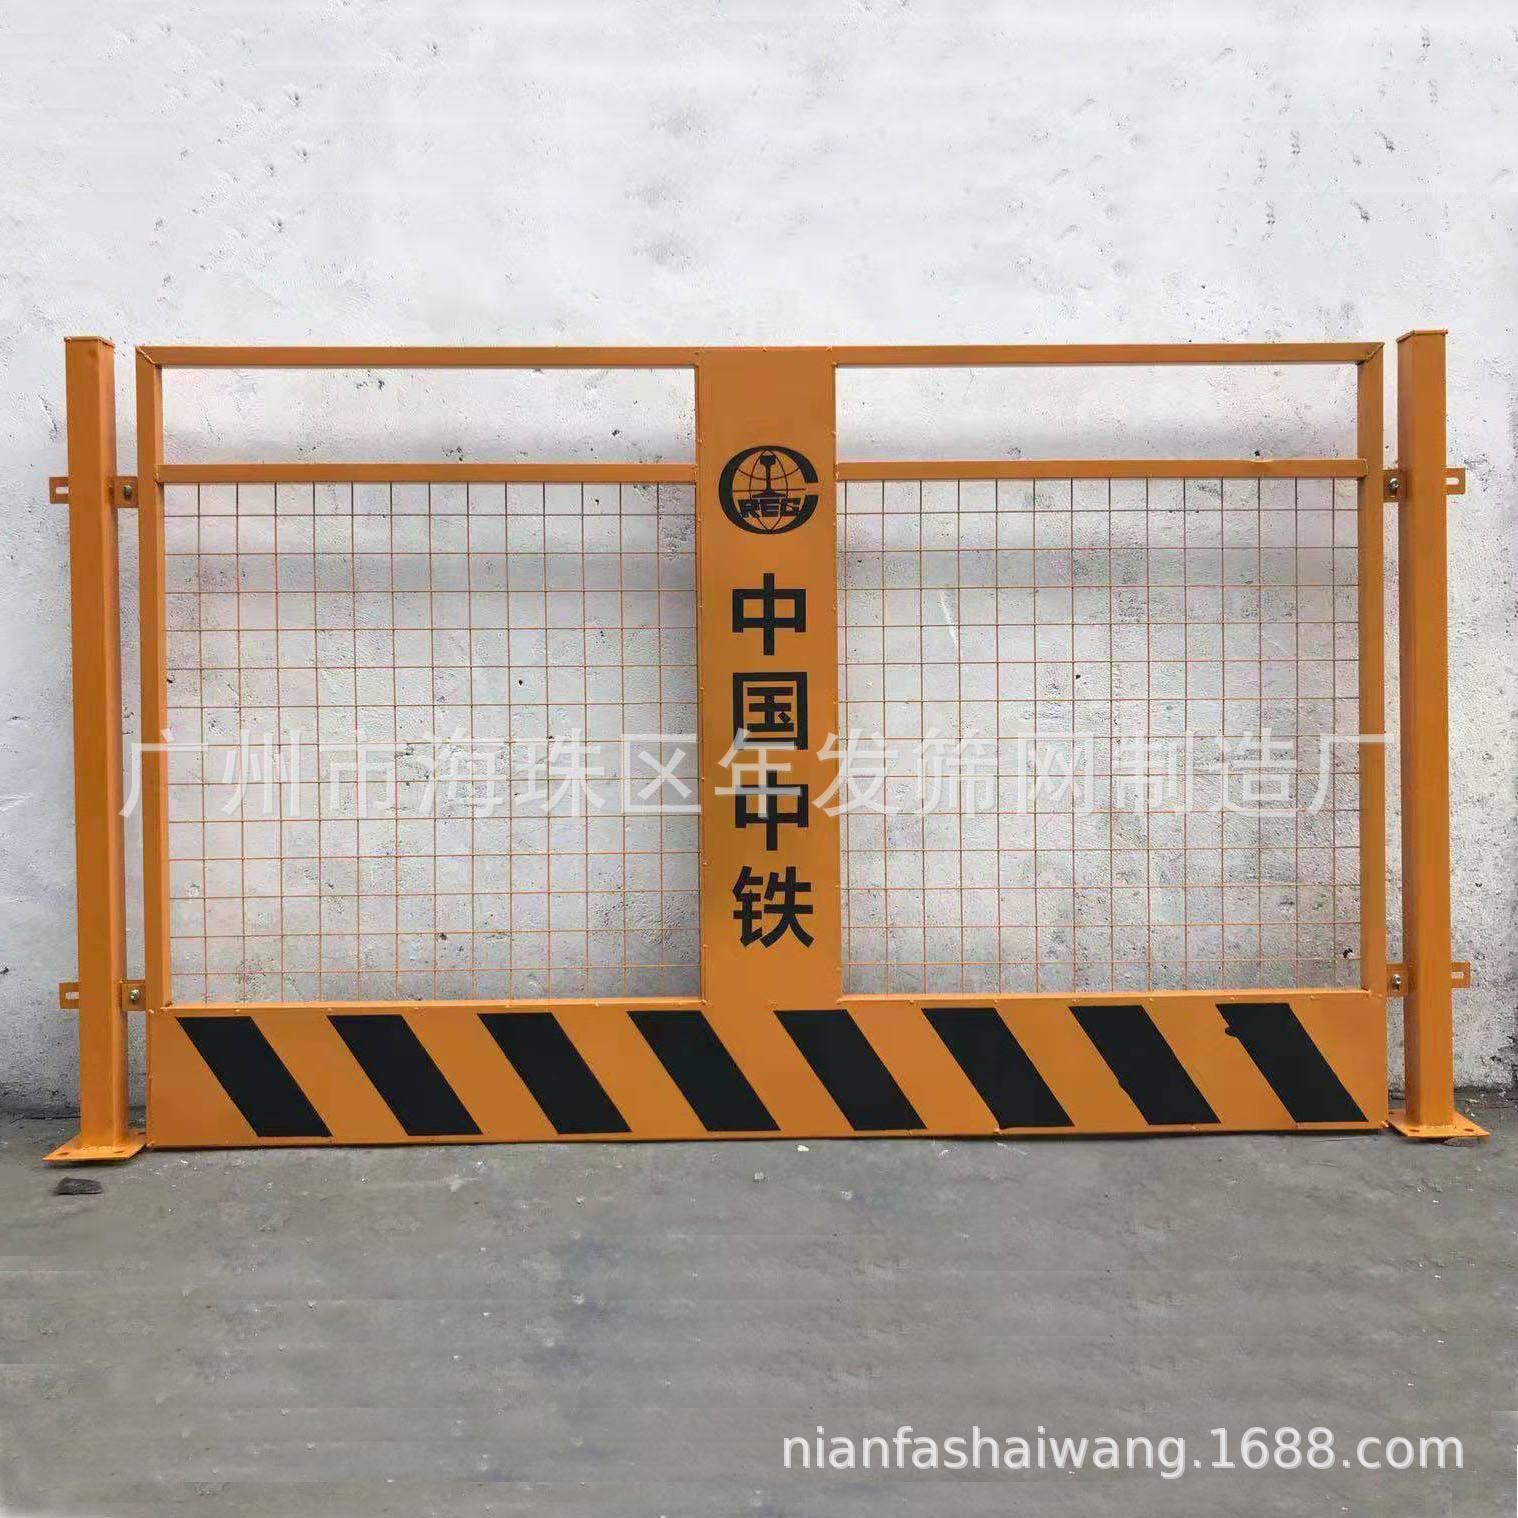sign: (31, 284, 1471, 1175)
